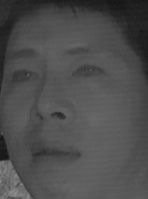eye: (71, 60, 108, 82), (9, 65, 39, 86)
mouth: (27, 136, 83, 169)
